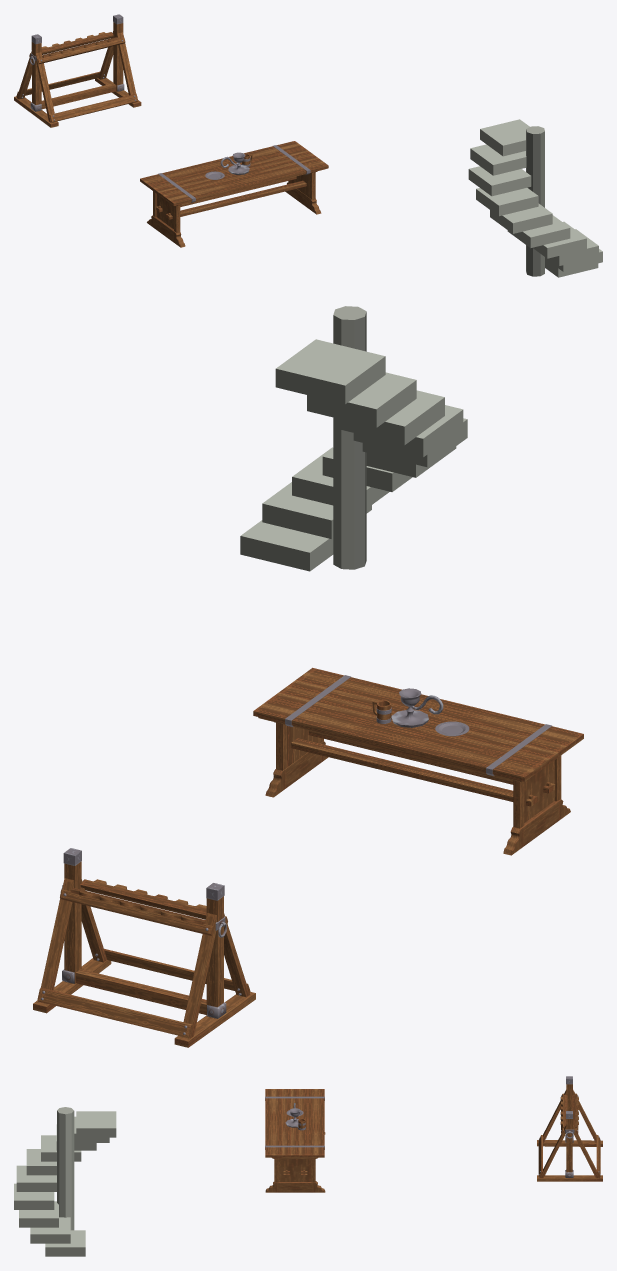
Rendered from realm_aelindor_25_tower.gltf.
3 renders of one model, top to bottom at view 1: azimuth 30°, elevation 25°; view 2: azimuth 150°, elevation 25°; view 3: azimuth 270°, elevation 25°, orthographic. The views are drawn at different scales.
Visible parts, largest first — view 1: cbcb4c91e2ed186a7cd229eb22d2e3cb2a69405c2707316b21cc5b9759e7, f4b04e3619cf212187b96076e7e940da50275113f8897ecbcd59f5921342, 71361f5f0e3651cbf9e718aa09a4ed053c36007d4373acffa9b28be748bc, 42a4131a7f9fe484a70590f8dd3499998303718cfb71bec957ec5894fb08; view 2: cbcb4c91e2ed186a7cd229eb22d2e3cb2a69405c2707316b21cc5b9759e7, f4b04e3619cf212187b96076e7e940da50275113f8897ecbcd59f5921342, 71361f5f0e3651cbf9e718aa09a4ed053c36007d4373acffa9b28be748bc, 42a4131a7f9fe484a70590f8dd3499998303718cfb71bec957ec5894fb08; view 3: cbcb4c91e2ed186a7cd229eb22d2e3cb2a69405c2707316b21cc5b9759e7, f4b04e3619cf212187b96076e7e940da50275113f8897ecbcd59f5921342, 71361f5f0e3651cbf9e718aa09a4ed053c36007d4373acffa9b28be748bc.
Part boxes in pixels (x1,y1,x2,y2): cbcb4c91e2ed186a7cd229eb22d2e3cb2a69405c2707316b21cc5b9759e7: (468,119,602,277); f4b04e3619cf212187b96076e7e940da50275113f8897ecbcd59f5921342: (140,141,328,247); 71361f5f0e3651cbf9e718aa09a4ed053c36007d4373acffa9b28be748bc: (14,14,141,127); 42a4131a7f9fe484a70590f8dd3499998303718cfb71bec957ec5894fb08: (220,152,249,174); cbcb4c91e2ed186a7cd229eb22d2e3cb2a69405c2707316b21cc5b9759e7: (240,306,467,571); f4b04e3619cf212187b96076e7e940da50275113f8897ecbcd59f5921342: (253,667,583,855); 71361f5f0e3651cbf9e718aa09a4ed053c36007d4373acffa9b28be748bc: (33,848,255,1047); 42a4131a7f9fe484a70590f8dd3499998303718cfb71bec957ec5894fb08: (391,688,443,727); cbcb4c91e2ed186a7cd229eb22d2e3cb2a69405c2707316b21cc5b9759e7: (14,1107,116,1256); f4b04e3619cf212187b96076e7e940da50275113f8897ecbcd59f5921342: (265,1089,325,1192); 71361f5f0e3651cbf9e718aa09a4ed053c36007d4373acffa9b28be748bc: (537,1076,602,1181).
Bounding box in the file's own units: 5.27 × 2.4 × 10.26.
9 materials, 8 textured.
